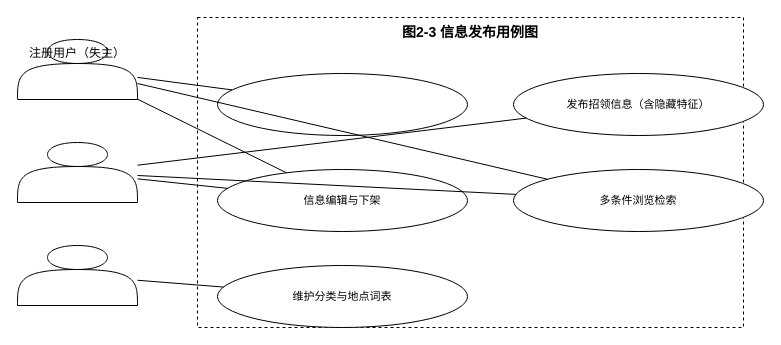
Image size: 781x345. Some labels were removed from this diagram. Here are the shapes that lost their labels. From the top down, the centre of each, then its label:
pixel 342 104: 发布失物启事
pixel 77 172: 注册用户（拾获者）
pixel 77 275: 系统管理员
